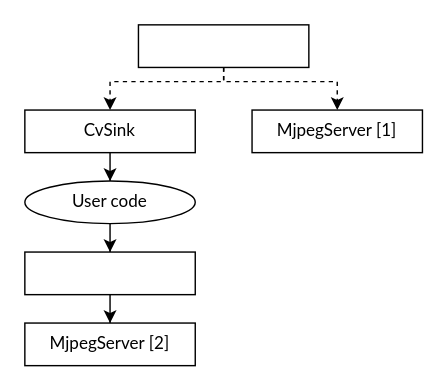
This 447x391 diagram has some shape labels left out. The shapes that lost their labels are listed below. From the top down, each one's centre as x and y in pixels, then its label:
At pixel 223 45: "UsbCamera".
At pixel 109 273: "CvSource".
